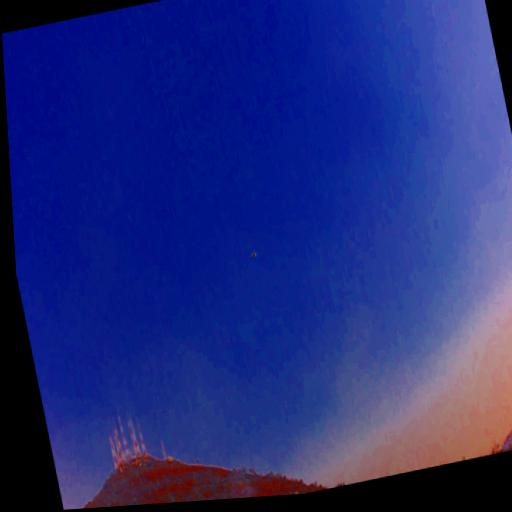drones: (248, 249, 259, 262)
